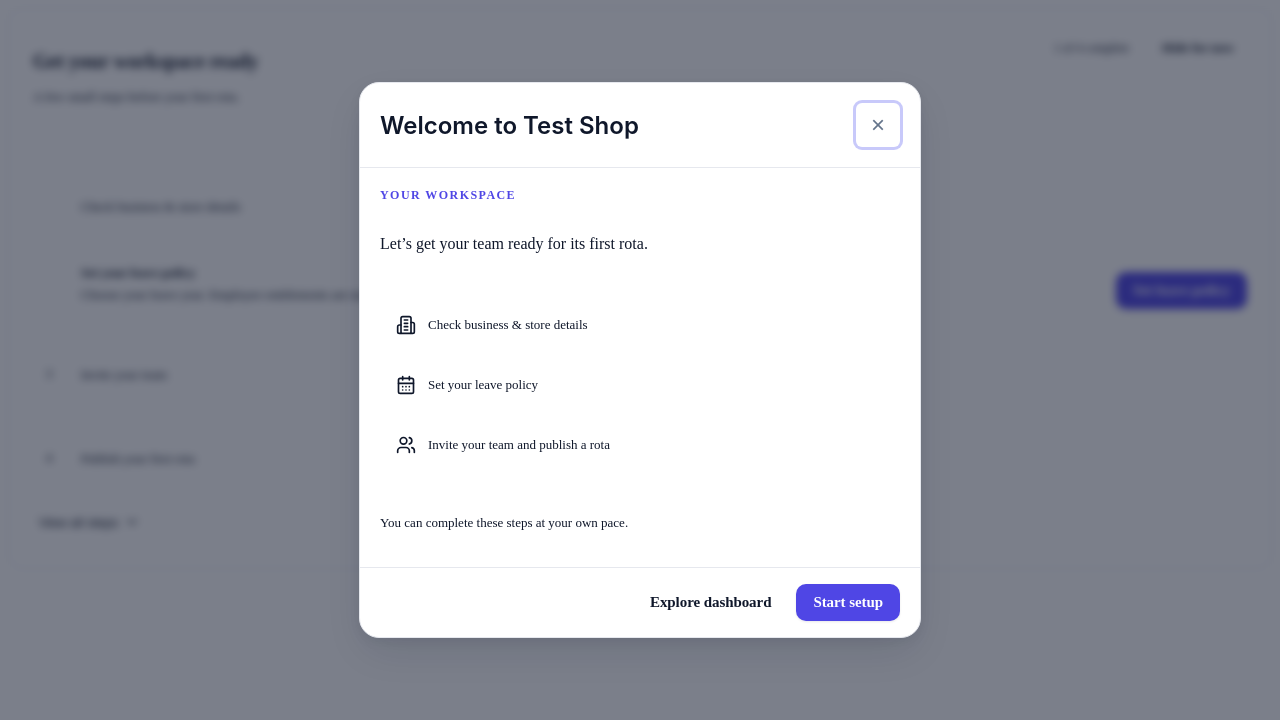
Test case: reports a reported preference failure and allows retry
The width and height of the screenshot is (1280, 720).
Expected: the dialog is shown, x1=359 y1=82 x2=921 y2=638
Click the button "Explore dashboard" at (711, 602), box x1=633 y1=584 x2=788 y2=621
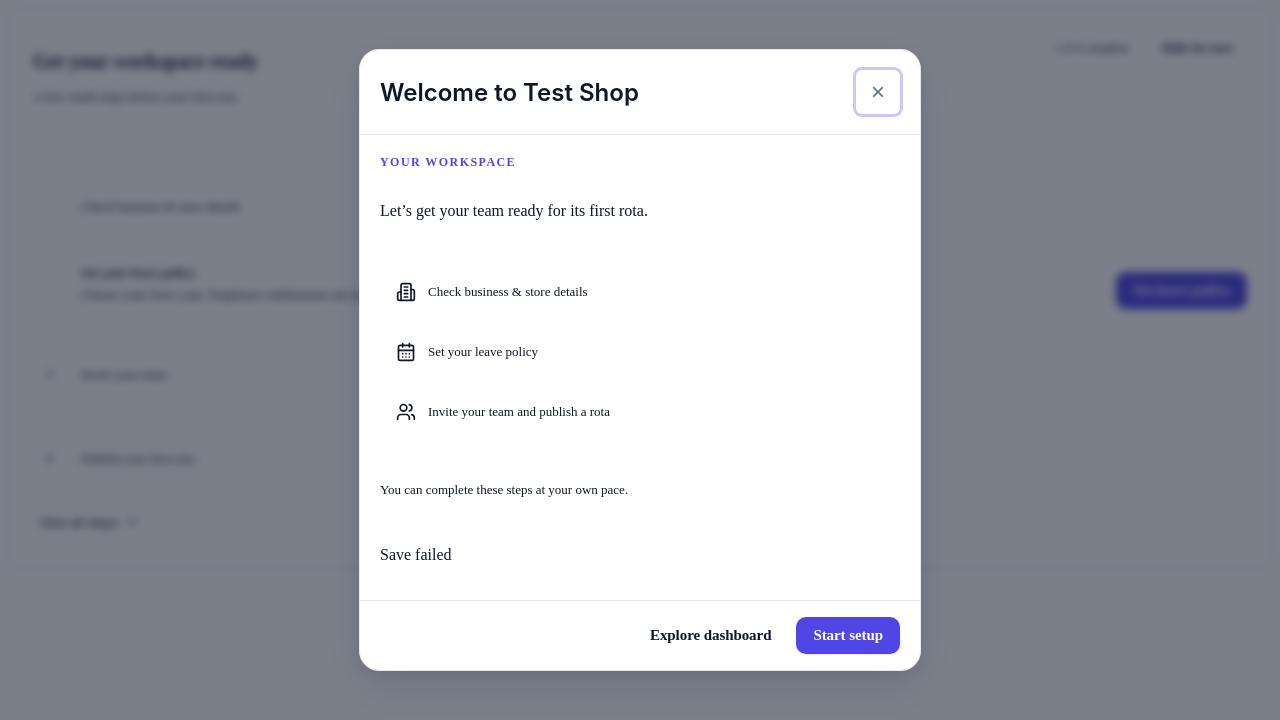
Expected: the dialog is shown, x1=359 y1=49 x2=921 y2=671
Result: the message "Save failed" is shown at x1=380 y1=546 x2=452 y2=563
